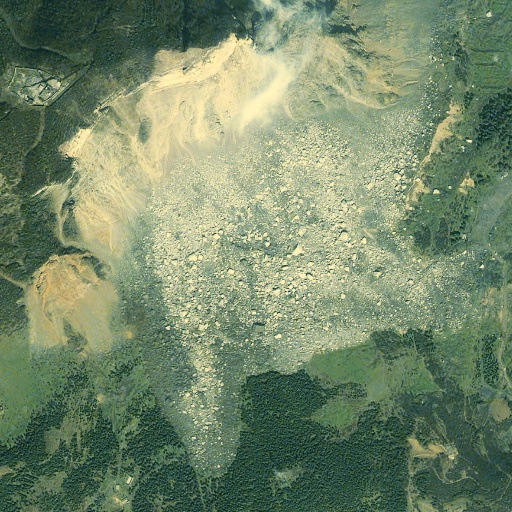landslide: (28, 39, 287, 350)
